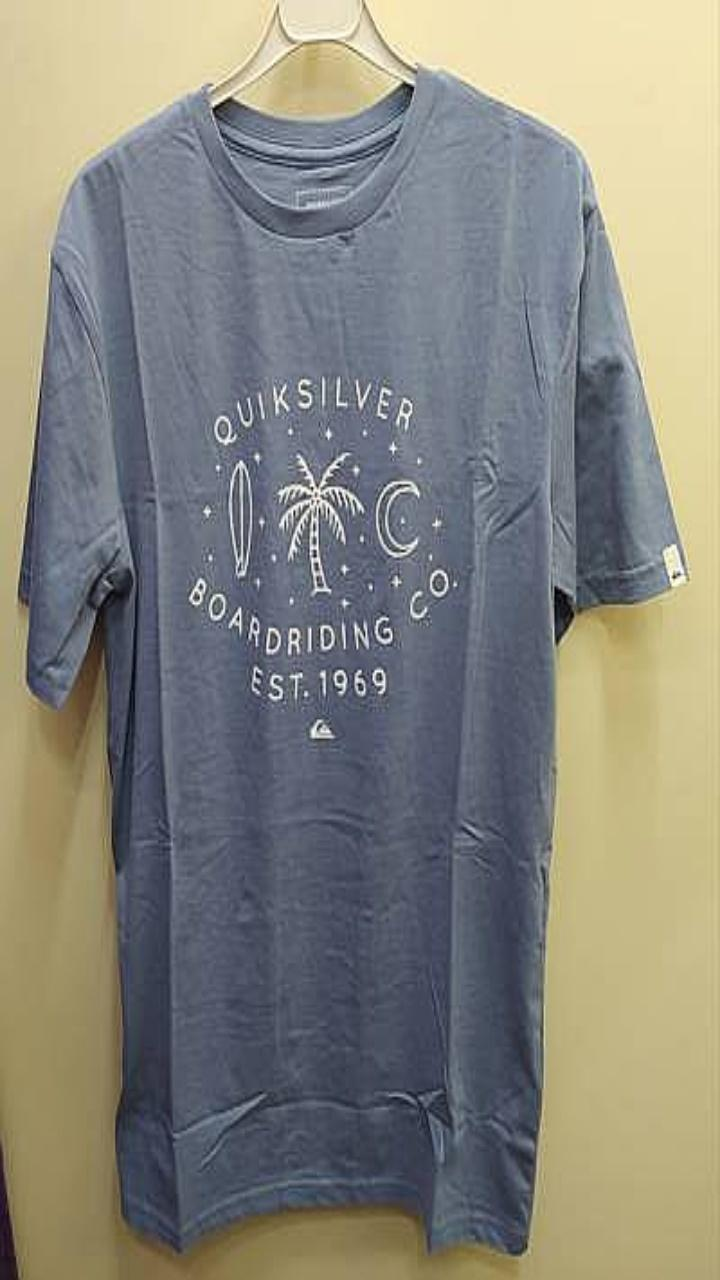T-Shirt: (19, 65, 688, 1253)
